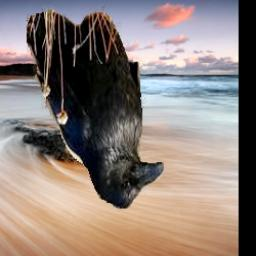Crow: (26, 6, 164, 211)
